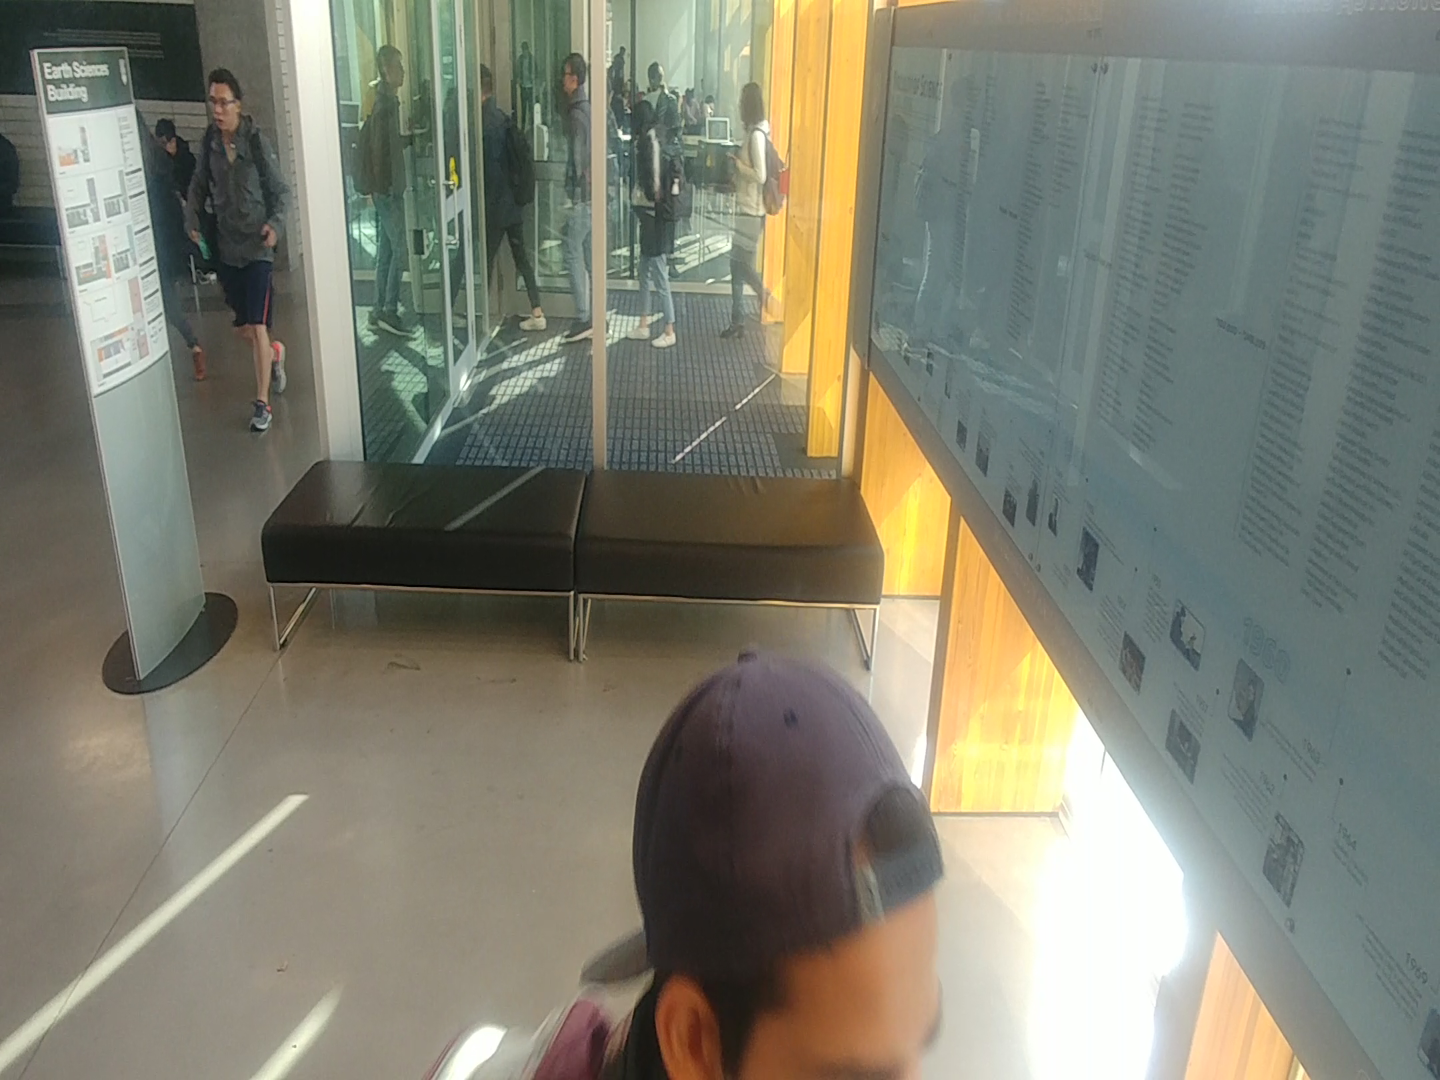face: (198, 61, 260, 146), (727, 77, 778, 138), (358, 38, 411, 93), (621, 88, 672, 144), (553, 51, 598, 110)
human: (379, 635, 980, 1080), (172, 62, 307, 442), (346, 40, 425, 349), (619, 92, 701, 355), (477, 56, 546, 341), (716, 79, 788, 348), (547, 37, 593, 347)
